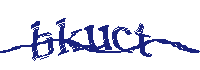b: (31, 22, 52, 61)
c: (111, 22, 135, 54)
k: (56, 18, 81, 57)
t: (133, 21, 157, 58)
u: (85, 20, 112, 53)
